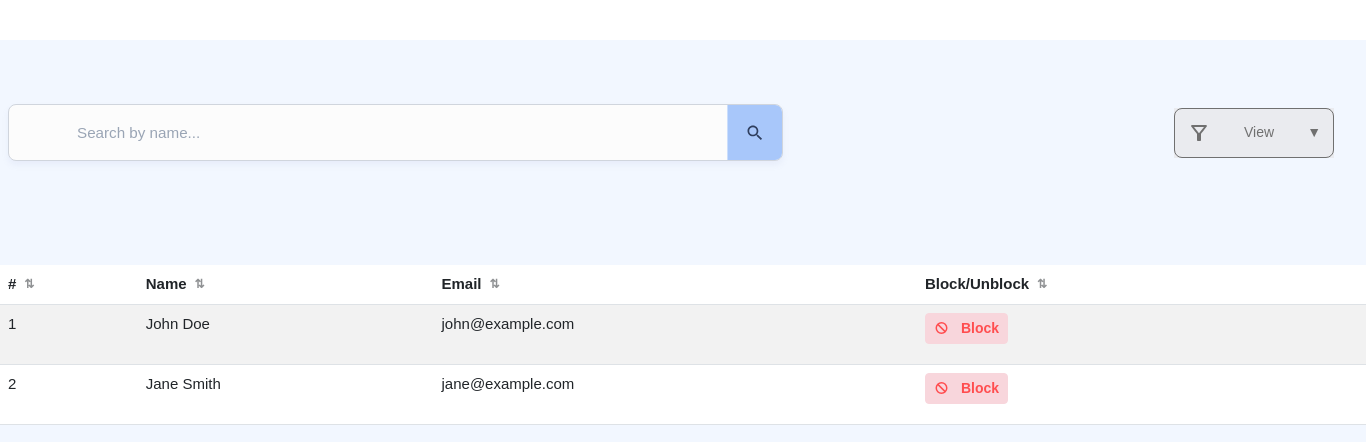
Test case: BlockUser Component › View Switching › switches to blocked users view
Click the button with test id "blockUserView-toggle" at coordinates (1254, 132), box [1174,108,1334,158]
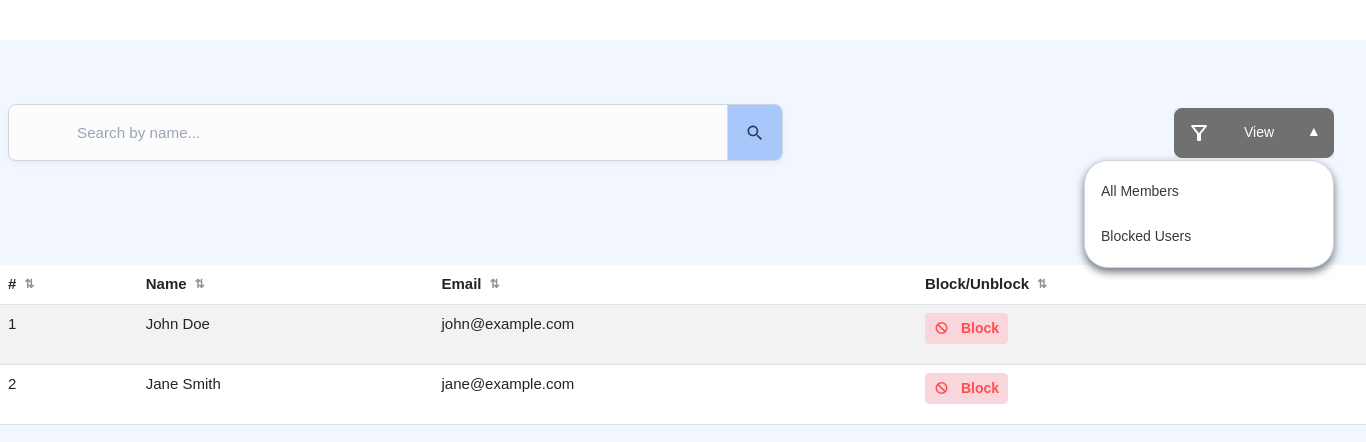
Click the option with test id "blockUserView-item-blockedUsers" at coordinates (1146, 236), box [1101,228,1191,244]
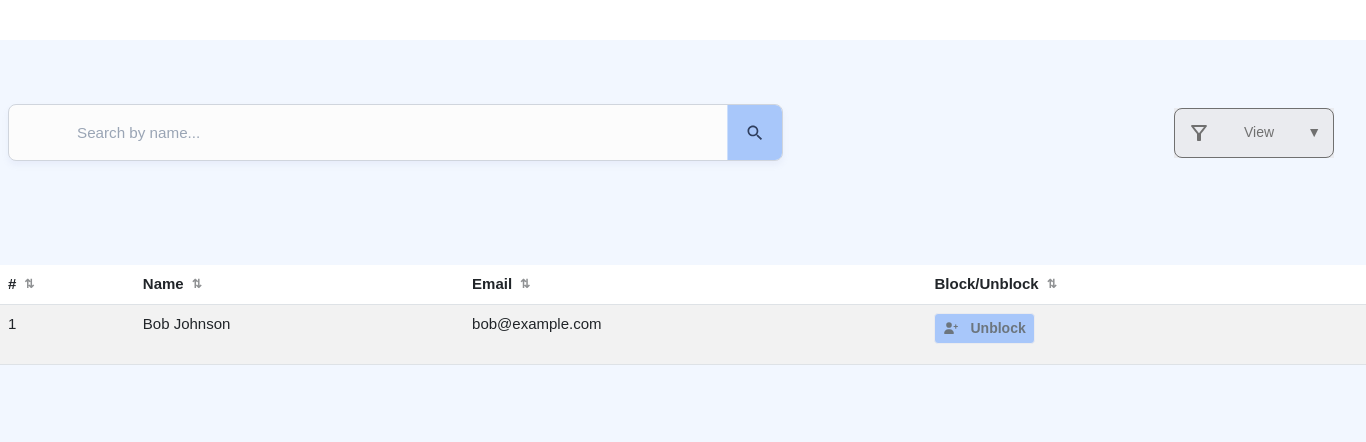
Expected: the text "John Doe" is gone
Expected: the text "Jane Smith" is gone
Expected: the text "Bob Johnson" is shown, [135,304,464,364]
